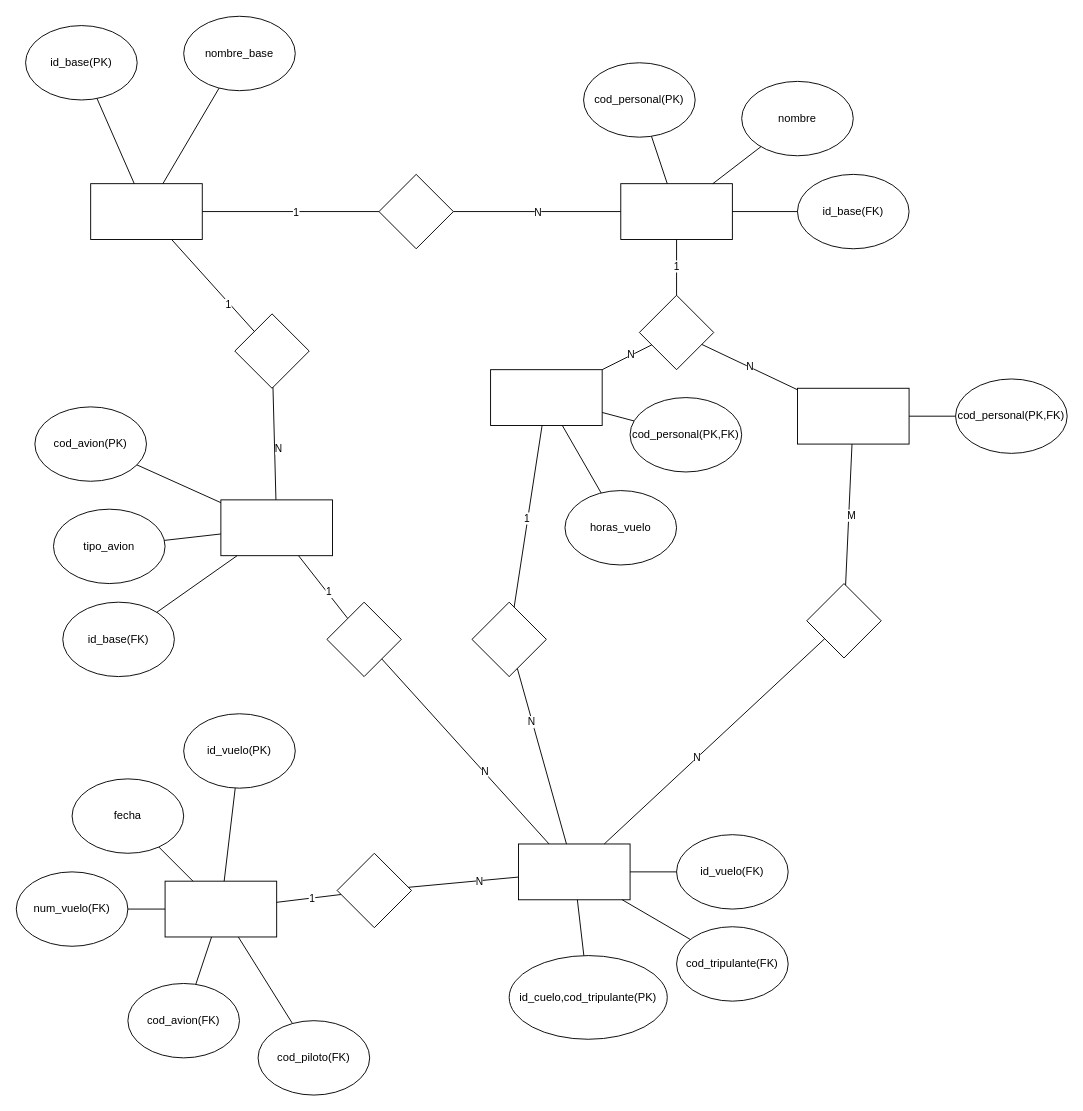
This 1083x1111 diagram has some shape labels left out. The shapes that lost their labels are listed below. From the top down, each one's box as (x1, y1, x2, y2) in pixels, then its label:
(90, 183, 202, 239): Base
(620, 183, 732, 239): Personal
(490, 369, 602, 425): Piloto
(797, 387, 909, 444): Tripulante
(220, 499, 332, 556): Avion
(518, 843, 630, 900): Vuelo_instancia
(164, 880, 277, 937): Vuelo_Tipo
